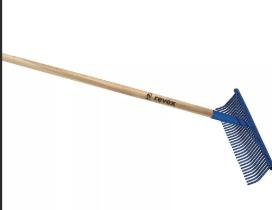RATEAU: (0, 9, 272, 210)
